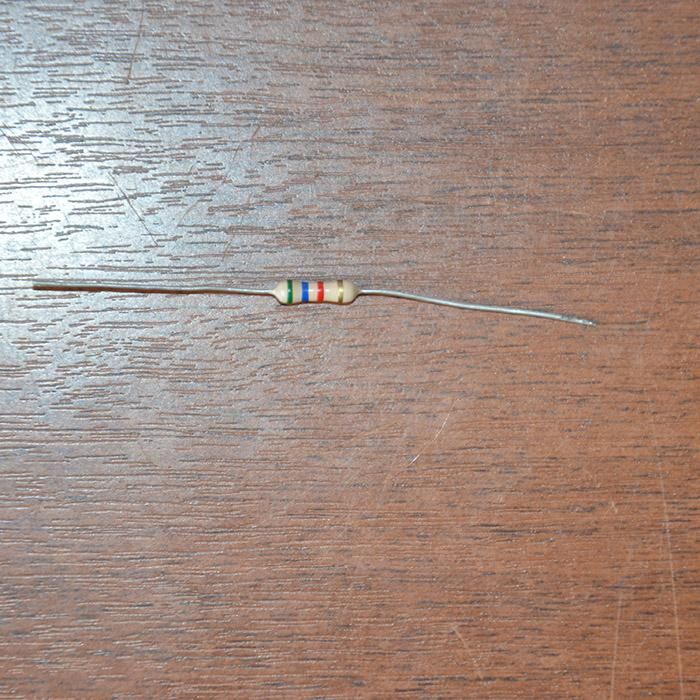resistor: (272, 277, 358, 305)
